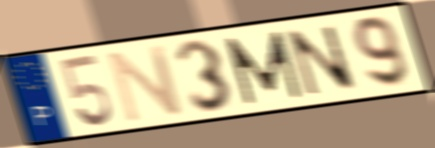3: (174, 37, 235, 114)
5: (57, 52, 114, 128)
9: (348, 14, 414, 90)
M: (221, 28, 305, 107)
N: (104, 42, 187, 125), (283, 23, 361, 98)
